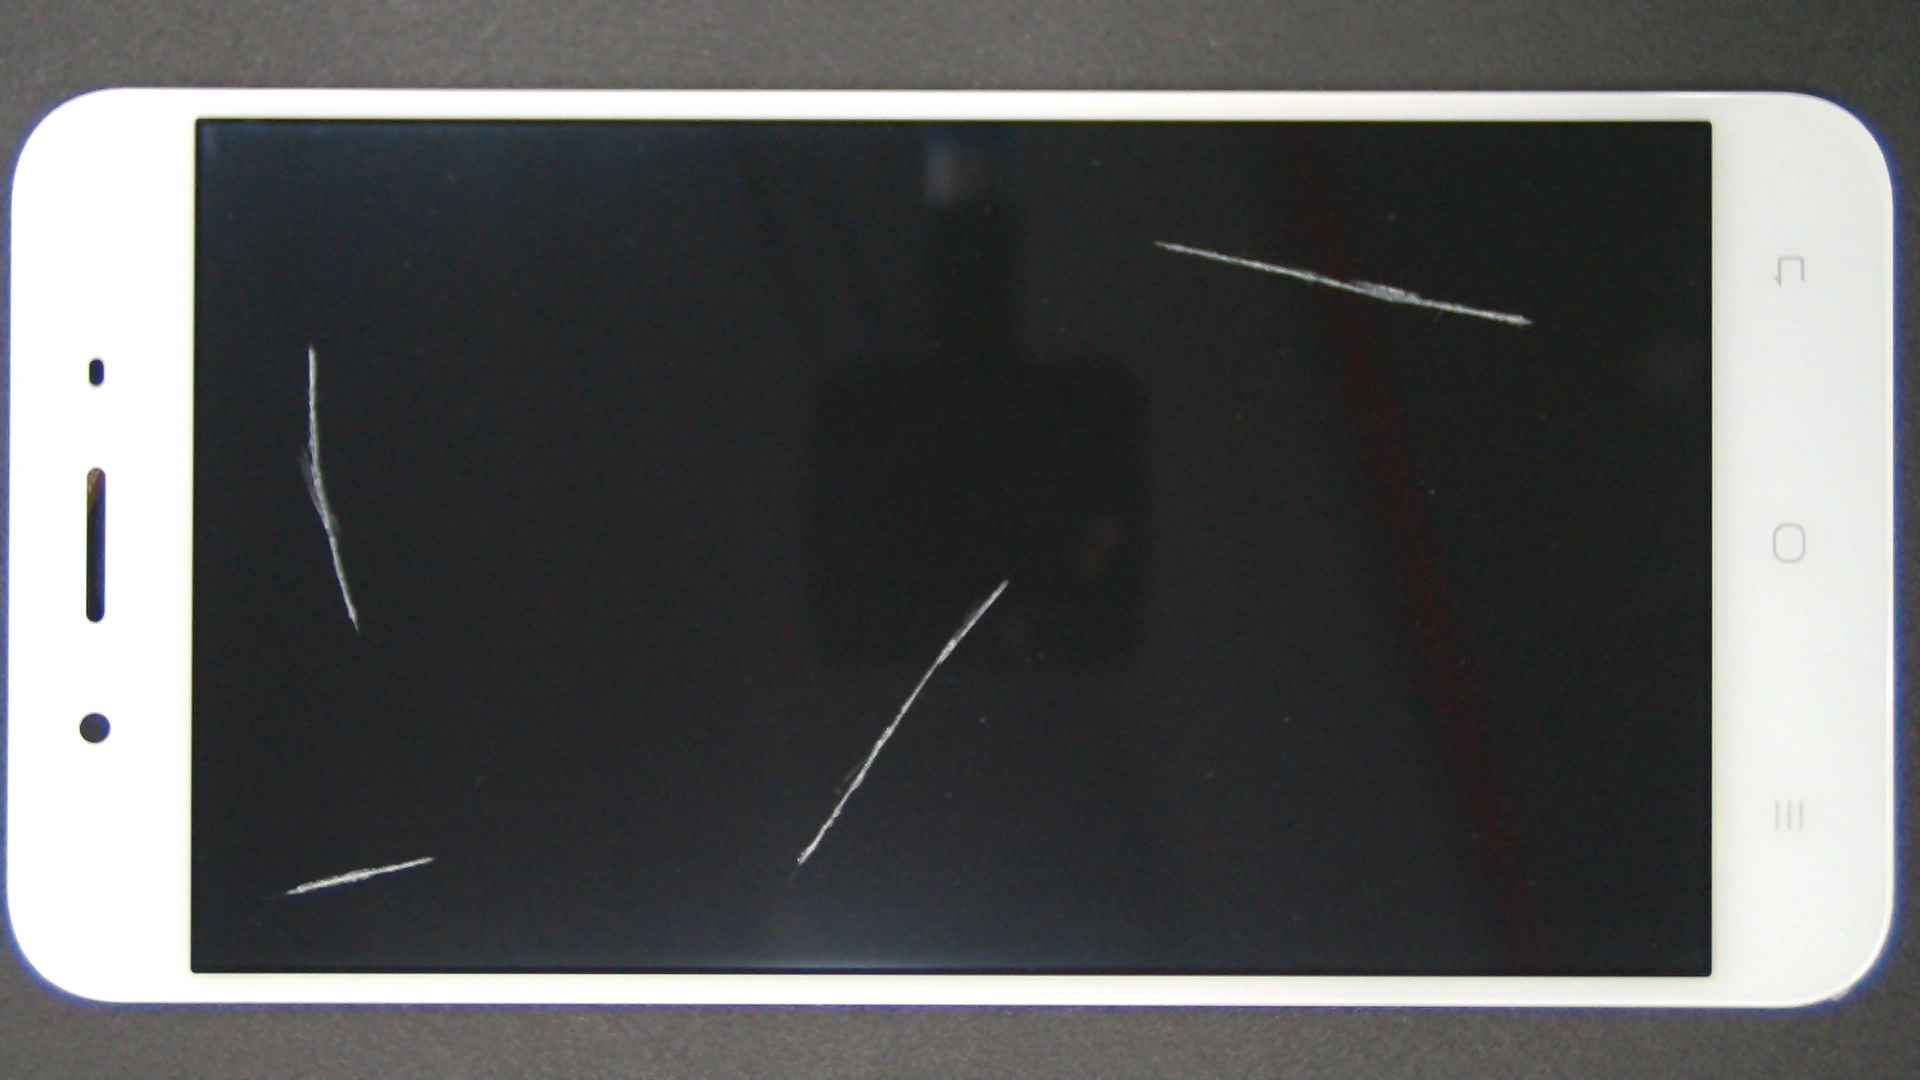oil: (504, 289, 1510, 868), (579, 119, 1735, 359), (212, 427, 634, 1080), (154, 171, 463, 517)
